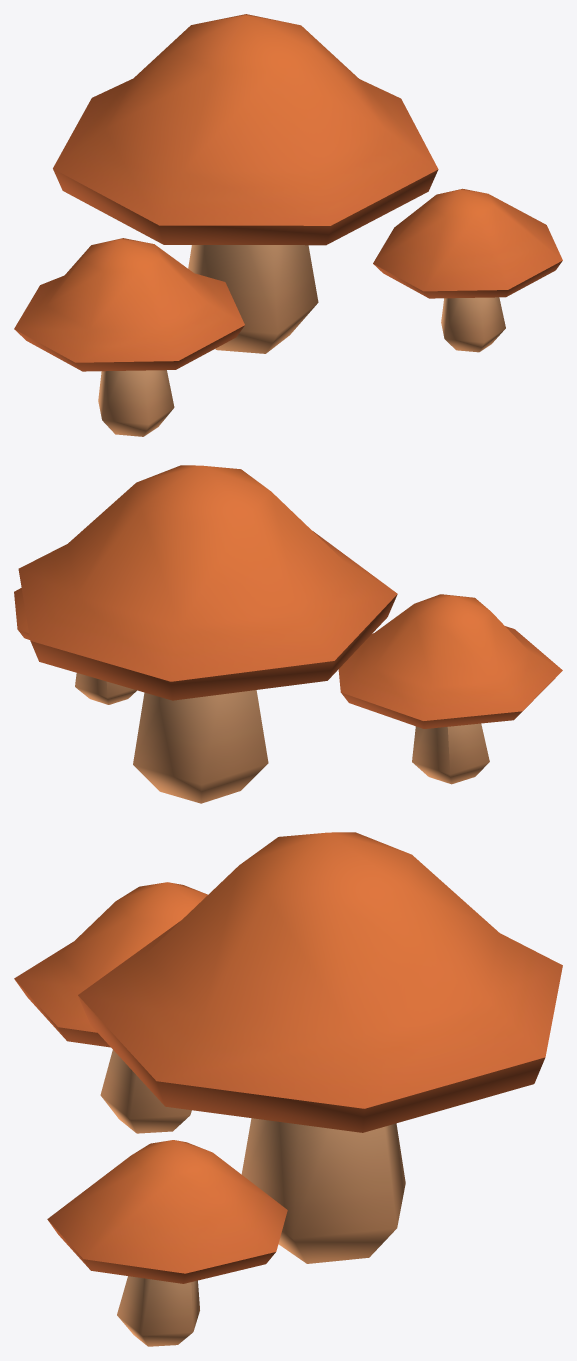
Rendered from mushroom_cluster_3.obj.
3 renders of one model, top to bottom at view 1: azimuth 30°, elevation 25°; view 2: azimuth 150°, elevation 25°; view 3: azimuth 270°, elevation 25°, orthographic. The views are drawn at different scales.
Parts seen in each view (by area): view 1: mushroom_cluster_3; view 2: mushroom_cluster_3; view 3: mushroom_cluster_3.
Boxes of the visible parts, box(x1,y1,x2,y2) form: mushroom_cluster_3: box(14, 14, 562, 436); mushroom_cluster_3: box(14, 465, 562, 803); mushroom_cluster_3: box(14, 832, 562, 1346).
Bounding box in the file's own units: 8.4 × 4.96 × 6.03.
